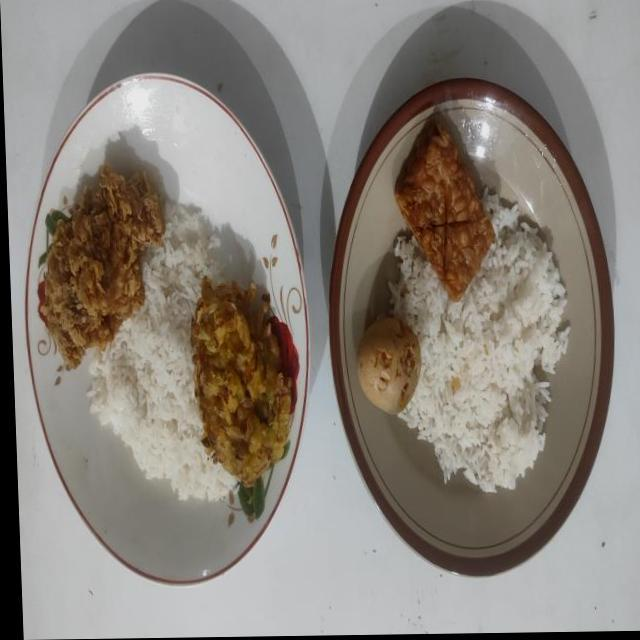nasi_putih: (389, 188, 570, 492), (86, 206, 237, 500)
tempe_goreng: (394, 118, 494, 302)
